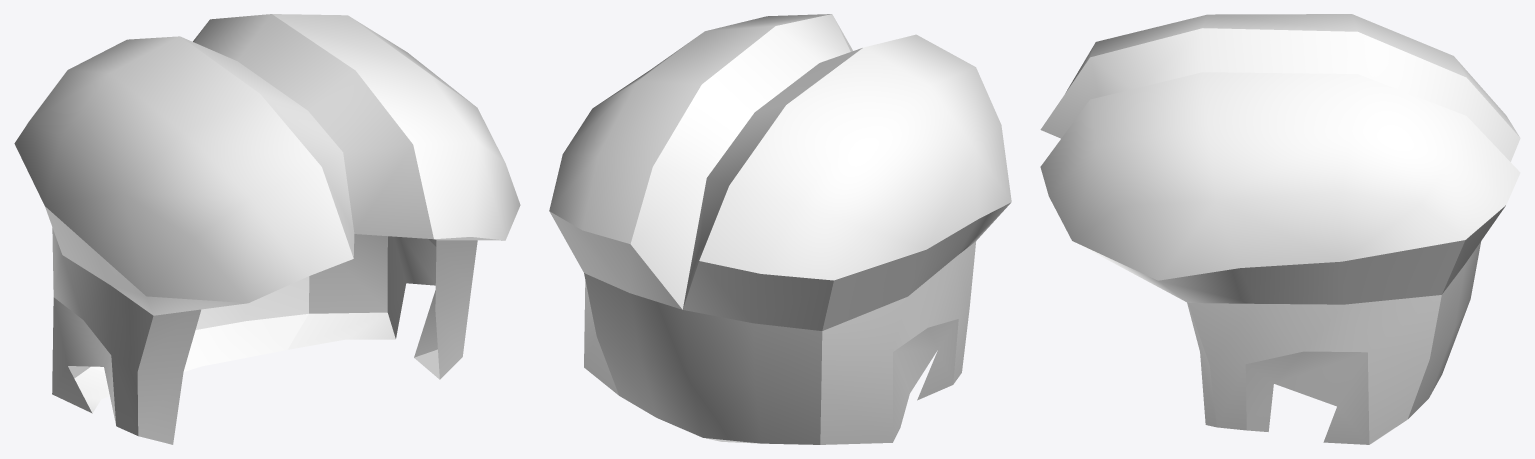
File: Male_Hairs_08.fbx
3 views of the same model, side by side, from view 1: azimuth 30°, elevation 25°; view 2: azimuth 150°, elevation 25°; view 3: azimuth 270°, elevation 25° (orthographic). The views are drawn at different scales.
Visible parts, largest first — view 1: Male_Hairs_08; view 2: Male_Hairs_08; view 3: Male_Hairs_08.
Boxes of the visible parts, x1=… form: Male_Hairs_08: x1=14, y1=14, x2=520, y2=444; Male_Hairs_08: x1=549, y1=14, x2=1011, y2=444; Male_Hairs_08: x1=1040, y1=14, x2=1520, y2=444.
Bounding box in the file's own units: 61.7 × 55.43 × 70.44.
